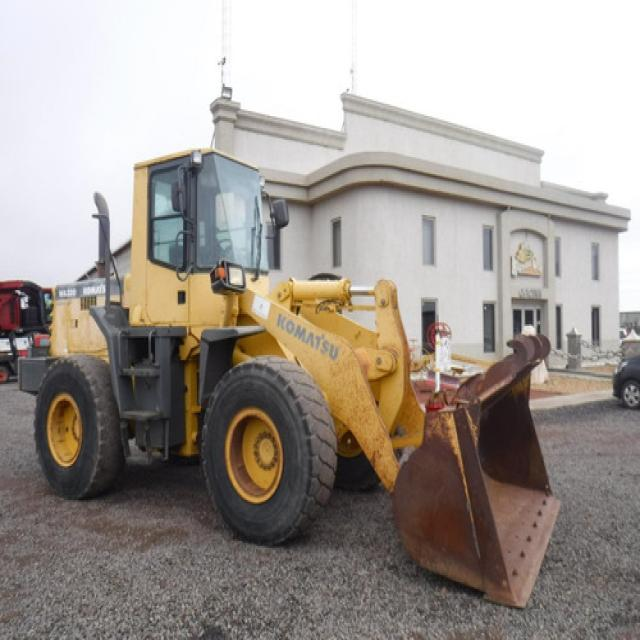buldozerpayloadergrader: (17, 141, 562, 614)
